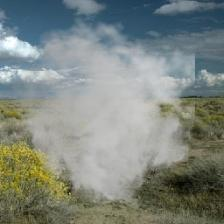fire: (11, 15, 195, 210)
